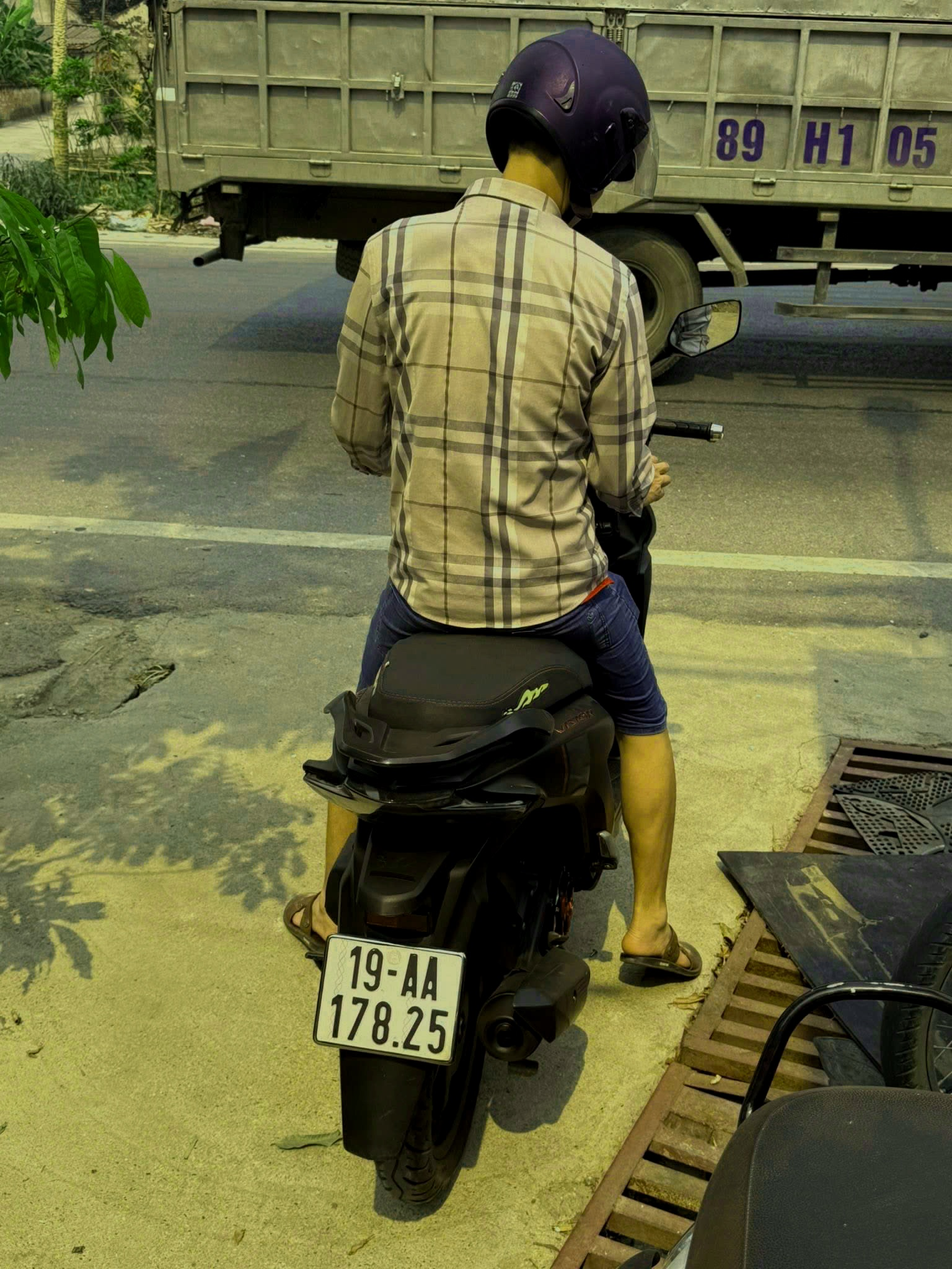Bien-so: (294, 932, 462, 1079)
